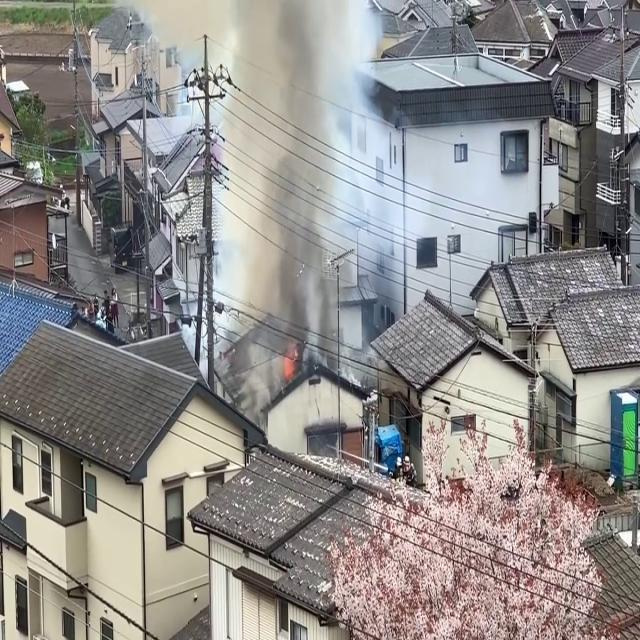Smoke: (222, 0, 402, 392)
